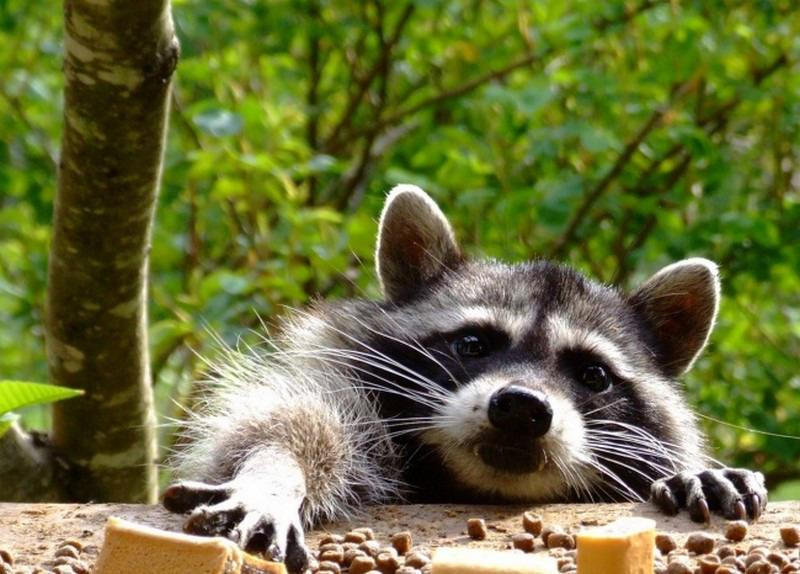raccoon: (121, 165, 800, 574)
